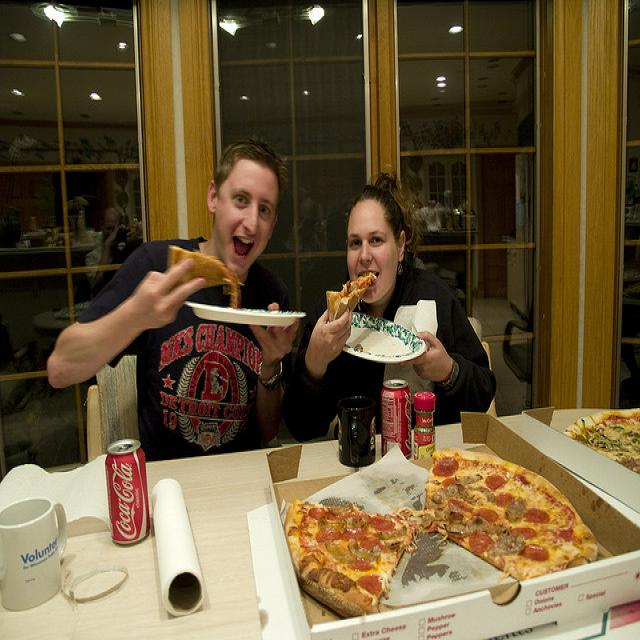chair: (87, 355, 140, 462), (468, 317, 498, 416)
dining table: (0, 380, 640, 634), (32, 302, 92, 334)
